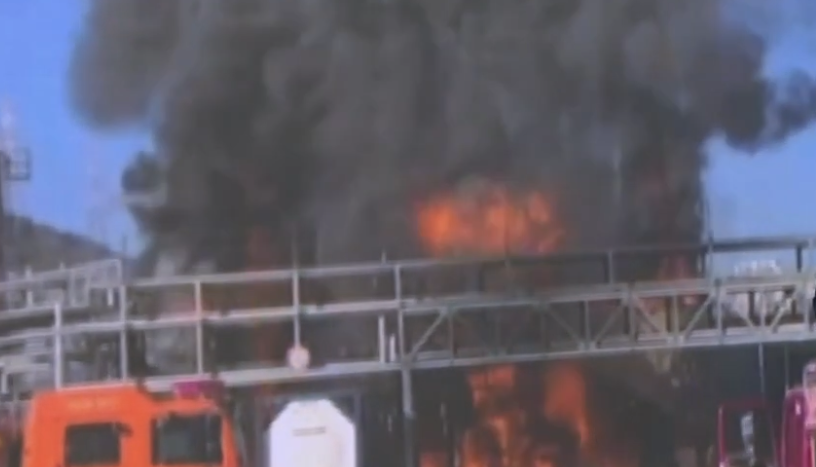fire: (395, 182, 607, 325)
